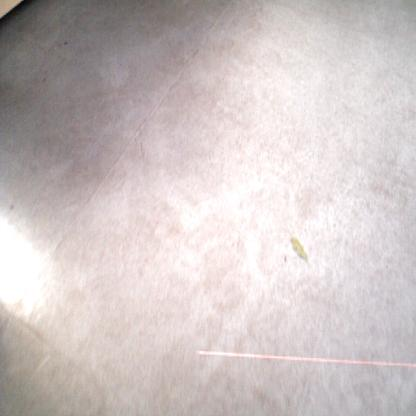dirty: (289, 236, 308, 262)
mark: (192, 47, 201, 60), (138, 138, 145, 153), (8, 200, 15, 211), (282, 253, 288, 265), (41, 75, 47, 84), (56, 42, 62, 50), (62, 39, 68, 46), (43, 68, 47, 76)
